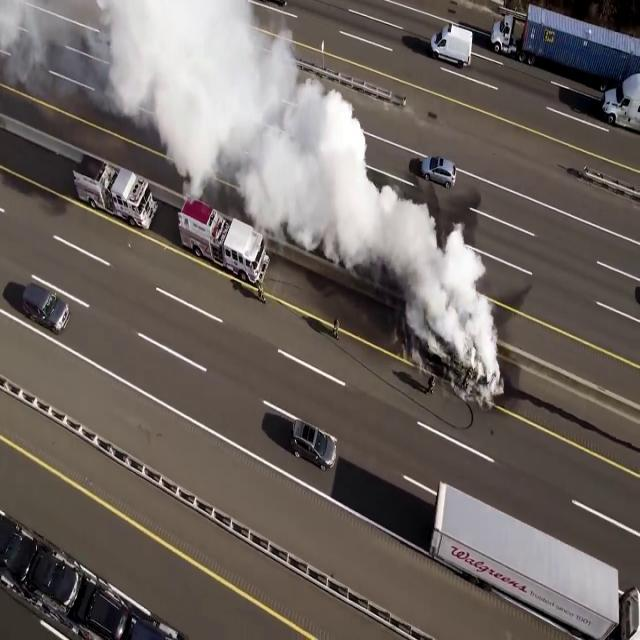Smoke: (97, 1, 387, 256), (391, 176, 501, 390)
